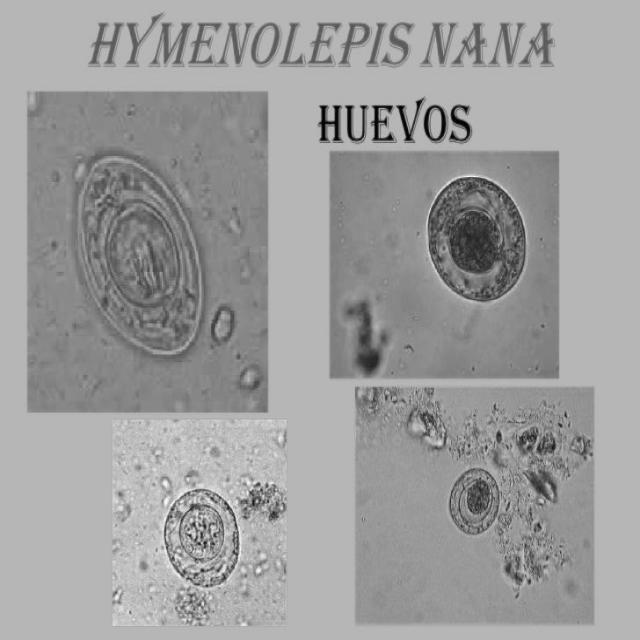Hymenolepis: (75, 151, 205, 365), (423, 166, 529, 306), (157, 482, 242, 588), (444, 464, 505, 539)
